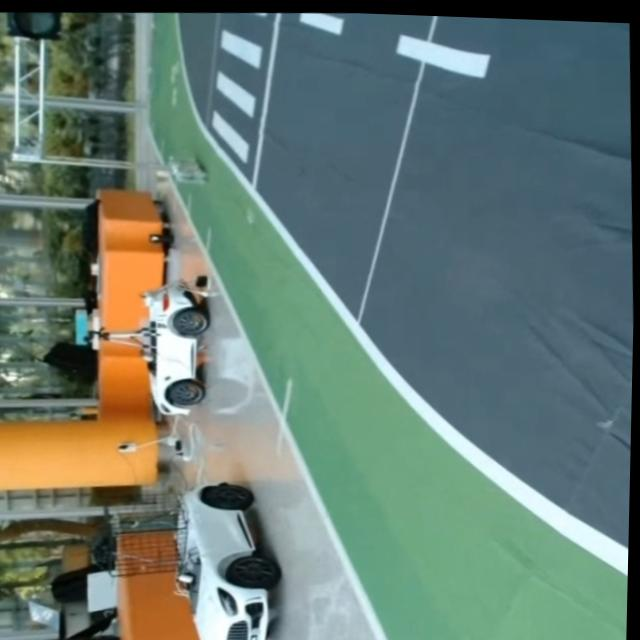traffic-light: (1, 10, 63, 48)
